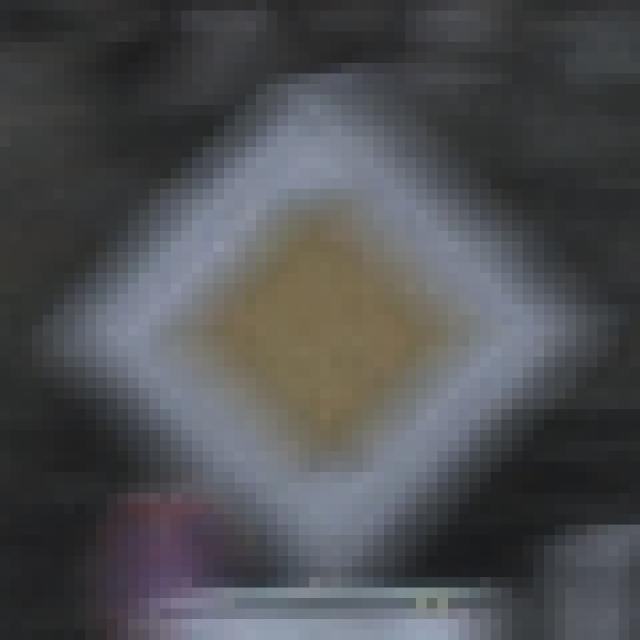Main Road: (65, 64, 588, 578)
